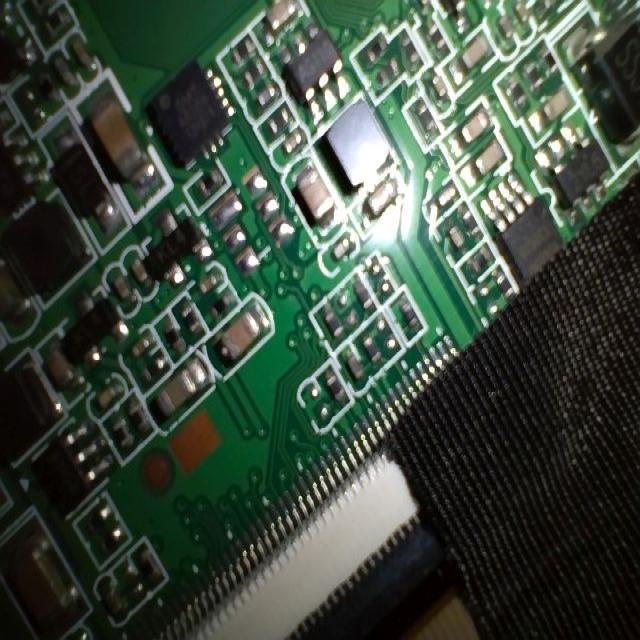capacitor: (74, 94, 154, 176), (217, 308, 276, 372), (155, 356, 198, 429), (294, 170, 333, 220), (542, 79, 576, 123), (453, 103, 491, 142), (476, 146, 506, 170)
resistor: (136, 542, 166, 586), (321, 366, 347, 402), (180, 298, 204, 337), (126, 393, 149, 430), (322, 298, 342, 334), (164, 319, 185, 353), (118, 412, 134, 447)
